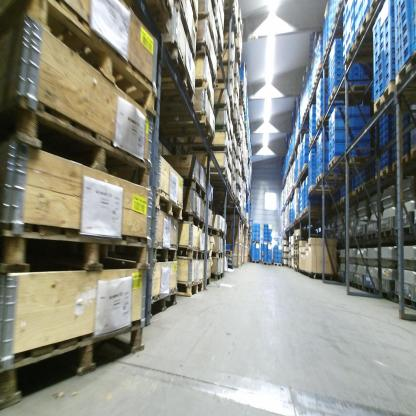pallet: (5, 8, 153, 111), (3, 318, 149, 412), (5, 100, 155, 185), (1, 224, 153, 277), (157, 52, 195, 110), (154, 113, 215, 141), (372, 79, 415, 115), (145, 286, 181, 321), (151, 186, 183, 223), (327, 82, 372, 106), (353, 14, 379, 50), (395, 51, 416, 91), (150, 236, 180, 263), (342, 44, 378, 66), (328, 155, 371, 173), (180, 213, 206, 239), (179, 181, 207, 202), (176, 280, 205, 298), (181, 245, 204, 263), (392, 293, 415, 311), (391, 154, 413, 172), (366, 1, 387, 19), (315, 174, 348, 185), (327, 20, 342, 44), (203, 167, 228, 181), (208, 177, 231, 191), (391, 223, 414, 237), (212, 189, 236, 201), (376, 286, 393, 302), (376, 166, 391, 184), (308, 185, 335, 194), (377, 227, 396, 239), (316, 115, 330, 131), (218, 203, 240, 213), (334, 1, 344, 22), (212, 225, 226, 240), (322, 44, 333, 62), (363, 178, 376, 193), (304, 205, 325, 214), (363, 285, 377, 297), (209, 272, 225, 282), (316, 64, 328, 77), (210, 250, 225, 260), (204, 277, 212, 294), (206, 250, 214, 266), (354, 234, 366, 244), (367, 232, 377, 242), (225, 248, 234, 259), (409, 146, 416, 160), (342, 194, 350, 206), (355, 183, 362, 196), (343, 236, 353, 245), (343, 279, 353, 288), (334, 275, 345, 283), (354, 282, 363, 291), (207, 225, 214, 236), (293, 236, 304, 242), (348, 192, 355, 201), (273, 261, 282, 267), (292, 217, 298, 225), (263, 261, 272, 266), (251, 259, 260, 264), (252, 239, 260, 244), (294, 267, 300, 273), (264, 241, 272, 245), (293, 242, 299, 247), (294, 261, 299, 266), (294, 238, 298, 244), (294, 253, 299, 257), (294, 257, 299, 261), (245, 223, 249, 228), (293, 250, 298, 253), (302, 210, 304, 217), (294, 247, 298, 250), (246, 221, 248, 225)
small_load_carrier: (332, 115, 354, 134), (380, 8, 394, 37), (380, 24, 395, 51), (396, 32, 409, 63), (332, 104, 352, 124), (395, 9, 410, 35), (380, 1, 394, 28), (350, 100, 371, 116), (349, 140, 370, 156), (397, 47, 411, 70), (333, 129, 351, 146), (396, 21, 408, 46), (395, 2, 408, 23), (352, 116, 371, 130), (351, 130, 371, 143), (393, 139, 409, 155), (333, 140, 348, 157), (382, 41, 394, 62), (383, 68, 394, 88), (373, 79, 384, 99), (372, 16, 383, 35), (373, 72, 383, 92), (384, 51, 393, 73), (378, 118, 389, 134), (319, 138, 329, 154), (374, 62, 383, 79), (374, 53, 382, 71), (378, 112, 389, 125), (319, 149, 329, 163), (318, 160, 329, 172), (330, 62, 342, 73), (379, 153, 391, 164), (379, 126, 391, 137), (319, 132, 329, 145), (373, 41, 381, 57), (331, 44, 341, 56), (331, 75, 340, 88), (332, 50, 341, 61), (332, 55, 341, 66), (380, 162, 391, 171), (374, 30, 380, 46), (333, 38, 341, 50), (352, 61, 360, 73), (410, 36, 416, 52), (379, 139, 388, 149), (380, 134, 389, 144), (332, 69, 340, 79), (352, 72, 362, 80), (411, 23, 415, 41), (410, 13, 415, 26), (328, 124, 332, 139), (328, 148, 332, 162), (410, 1, 414, 15), (315, 148, 319, 161), (329, 114, 332, 130), (329, 137, 332, 152), (315, 166, 319, 177), (316, 136, 320, 147), (316, 156, 319, 170), (310, 148, 316, 155), (310, 151, 316, 158), (309, 160, 315, 167), (309, 174, 315, 181), (278, 246, 283, 254), (309, 168, 315, 174), (310, 180, 315, 187), (267, 248, 272, 255), (277, 252, 282, 259), (310, 156, 315, 161), (310, 165, 315, 170), (262, 257, 267, 262), (273, 245, 279, 249), (267, 255, 272, 259), (273, 248, 278, 252), (273, 253, 277, 258), (273, 258, 278, 262), (278, 257, 282, 262), (263, 244, 267, 248), (267, 258, 272, 261), (263, 248, 267, 251), (263, 251, 267, 254), (263, 254, 267, 257)
